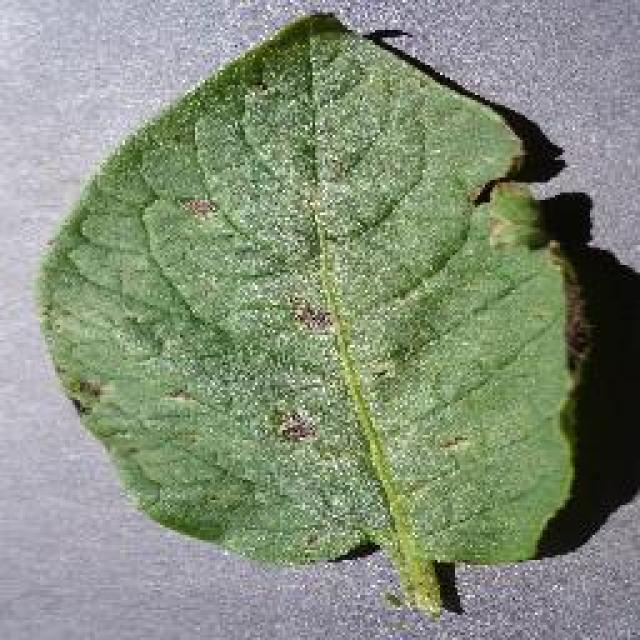early_blight: (32, 8, 588, 618)
